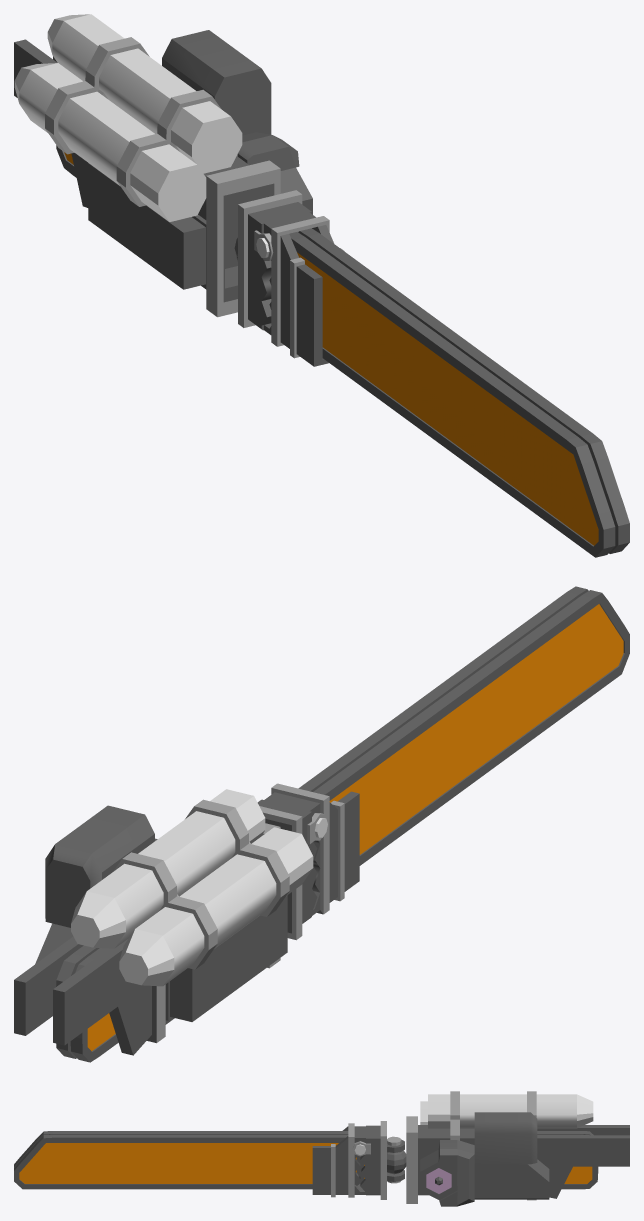
The model's file is Chainsaw Revised Model.fbx.
3 views of the same model, one above another, from view 1: azimuth 30°, elevation 25°; view 2: azimuth 150°, elevation 25°; view 3: azimuth 270°, elevation 25° (orthographic). The views are drawn at different scales.
Visible parts, largest first — view 1: Tanks, BladeExt, Chain (×2), Chassis, Engine, Magnet_Brace, Break_Sheath, WristBody, Template_Cube4 (×2), BladeTip; view 2: Tanks, BladeExt, Chassis, Chain (×2), Engine, Magnet_Brace, Break_Sheath, WristBody, BladeTip, Template_Cube4, Template_Cube2; view 3: BladeExt, Engine, Chassis, Chain (×3), Tanks, Break_Sheath, WristBody, BladeTip, Template_Cube4 (×2), Joint_Bracket, Wrist_Joint, BackBladeExt (+2 smaller).
Boxes of the visible parts, bbox=[...] form: Tanks: bbox=[14, 14, 242, 221]; BladeExt: bbox=[297, 252, 561, 521]; Chain (×2): bbox=[293, 233, 585, 531]; Chassis: bbox=[14, 37, 280, 317]; Engine: bbox=[162, 30, 312, 214]; Magnet_Brace: bbox=[88, 163, 206, 289]; Break_Sheath: bbox=[264, 212, 344, 366]; WristBody: bbox=[238, 190, 311, 330]; Template_Cube4 (×2): bbox=[560, 428, 629, 557]; BladeTip: bbox=[561, 446, 598, 545]; Tanks: bbox=[71, 789, 313, 986]; BladeExt: bbox=[329, 614, 585, 854]; Chassis: bbox=[14, 799, 289, 1055]; Chain (×2): bbox=[298, 597, 586, 865]; Engine: bbox=[35, 805, 157, 964]; Magnet_Brace: bbox=[165, 895, 287, 1021]; Break_Sheath: bbox=[264, 783, 359, 915]; WristBody: bbox=[257, 799, 327, 940]; BladeTip: bbox=[585, 604, 623, 689]; Template_Cube4: bbox=[575, 590, 629, 699]; Template_Cube2: bbox=[70, 957, 98, 1062]; BladeExt: bbox=[60, 1143, 338, 1183]; Engine: bbox=[420, 1112, 549, 1206]; Chassis: bbox=[406, 1091, 629, 1203]; Chain (×3): bbox=[60, 1131, 580, 1189]; Tanks: bbox=[420, 1094, 593, 1128]; Break_Sheath: bbox=[312, 1123, 365, 1197]; WristBody: bbox=[352, 1121, 386, 1199]; BladeTip: bbox=[19, 1143, 60, 1183]; Template_Cube4 (×2): bbox=[14, 1131, 60, 1189]; Joint_Bracket: bbox=[387, 1136, 404, 1183]; Wrist_Joint: bbox=[387, 1150, 406, 1174]; BackBladeExt: bbox=[564, 1166, 580, 1183].
Bounding box in the file's own units: 0.3649 × 0.3767 × 2.17.
